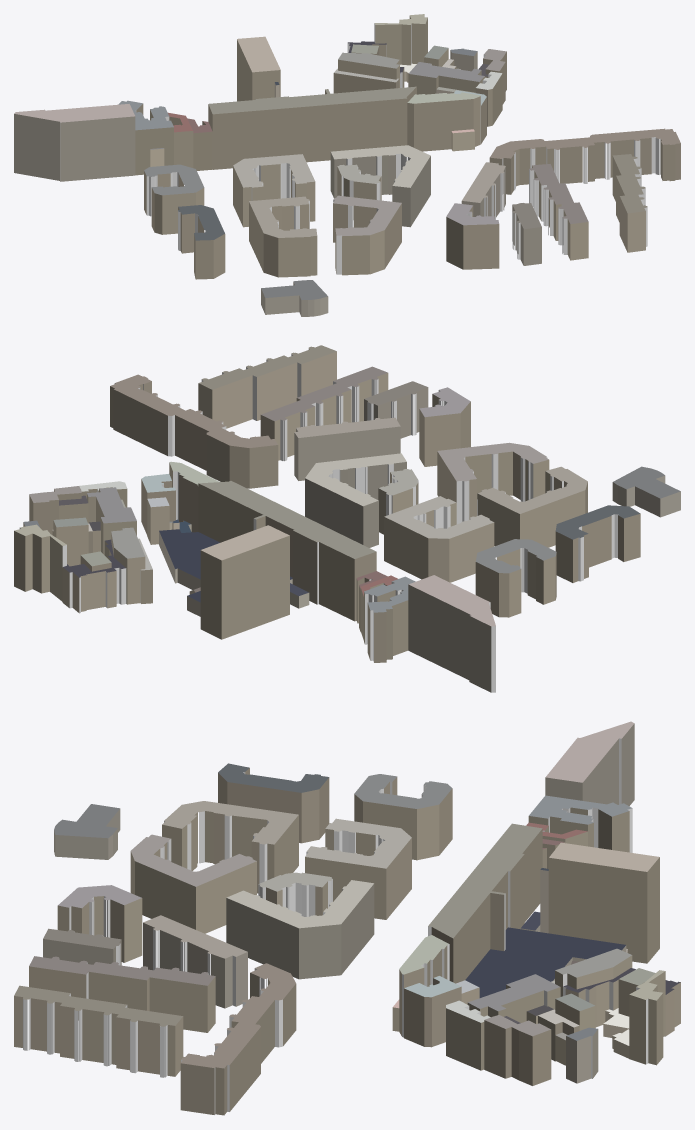
The picture shows the model from 3 angles, top to bottom: view 1: azimuth 30°, elevation 25°; view 2: azimuth 150°, elevation 25°; view 3: azimuth 270°, elevation 25°; orthographic projection. The views are drawn at different scales.
Visible parts, largest first — view 1: tuile; view 2: tuile; view 3: tuile.
Boxes of the visible parts, x1,y1,x2,y2 form: tuile: (14,14,680,316); tuile: (14,345,680,692); tuile: (14,721,680,1115).
Bounding box in the file's own units: 306 × 42.44 × 271.
